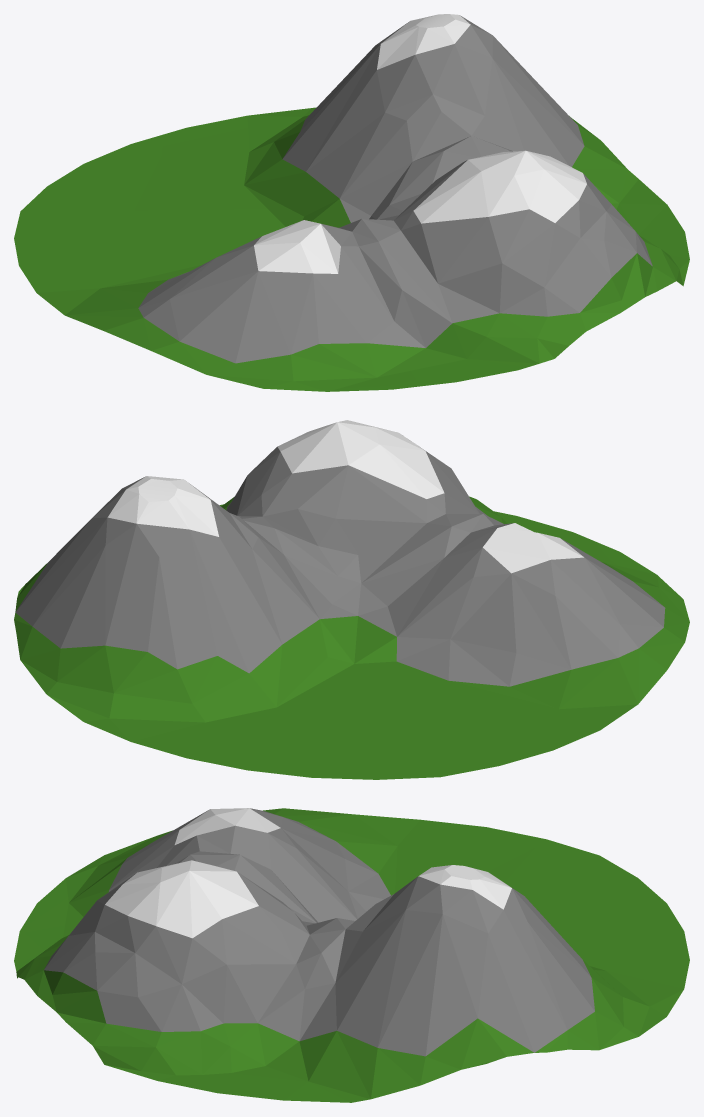
Rendered from mountaine2B.fbx.
3 renders of one model, top to bottom at view 1: azimuth 30°, elevation 25°; view 2: azimuth 150°, elevation 25°; view 3: azimuth 270°, elevation 25°, orthographic. The views are drawn at different scales.
Parts seen in each view (by area): view 1: lamd 1; view 2: lamd 1; view 3: lamd 1.
Boxes of the visible parts, box(x1,y1,x2,y2) form: lamd 1: box(14, 14, 689, 391); lamd 1: box(14, 420, 689, 779); lamd 1: box(14, 808, 689, 1102).
Bounding box in the file's own units: 2228 × 583 × 2228.
